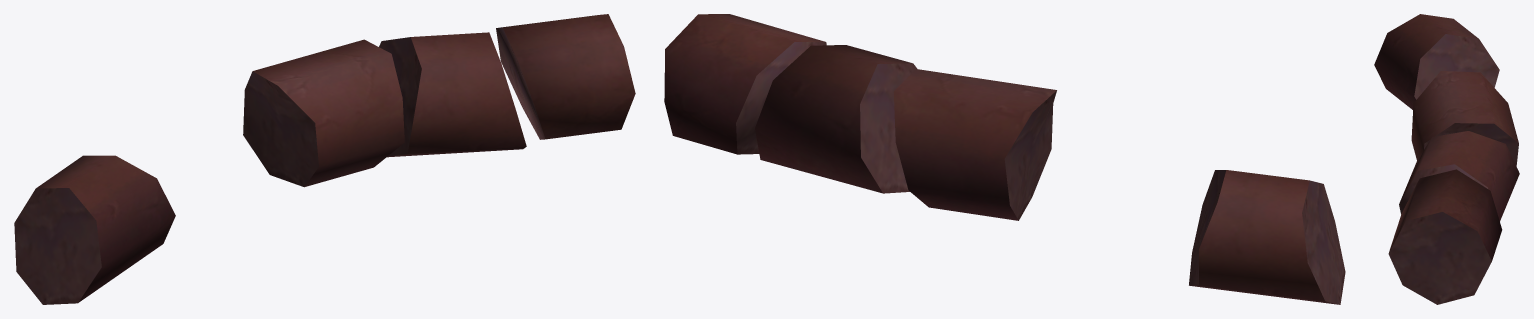
Rendered from Dungeons_03_02_15.FBX.
3 renders of one model, left to right at view 1: azimuth 30°, elevation 25°; view 2: azimuth 150°, elevation 25°; view 3: azimuth 270°, elevation 25°, orthographic. The views are drawn at different scales.
Visible parts, largest first — view 1: Object342; view 2: Object342; view 3: Object342.
Boxes of the visible parts, x1,y1,x2,y2 form: Object342: (14, 14, 635, 304); Object342: (664, 14, 1345, 304); Object342: (1374, 14, 1519, 304).
Bounding box in the file's own units: 67.04 × 15.95 × 17.29.
